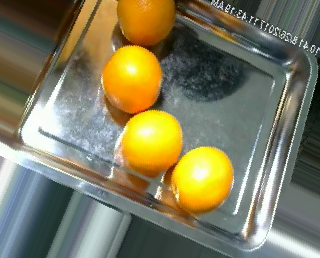Orange: (171, 144, 235, 213), (118, 110, 183, 176), (102, 45, 162, 114)
